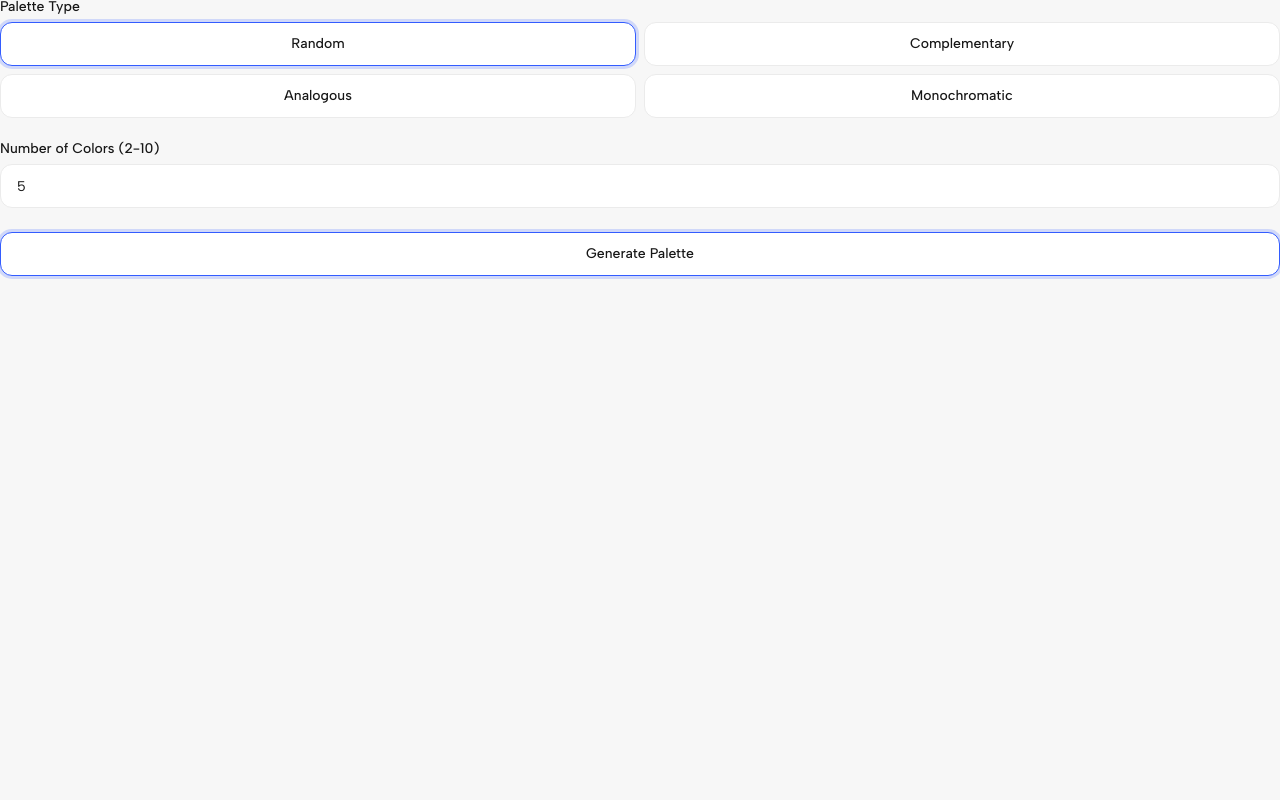
Scenario: ColorPaletteGeneratorTool › generates random palette
The width and height of the screenshot is (1280, 800).
Click the button "Generate Palette" at (640, 254), box [0,232,1279,276]
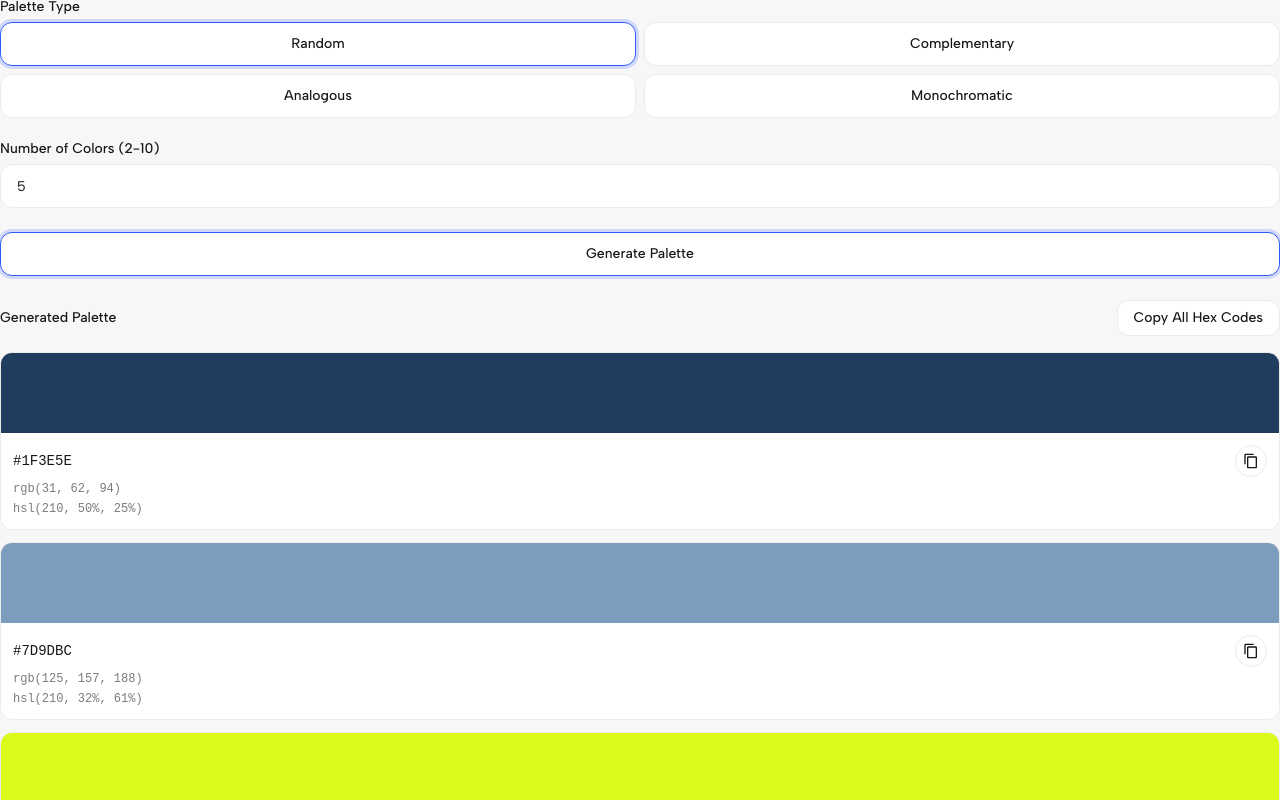
Expected: the text "Generated Palette" is shown, [0,311,116,325]
